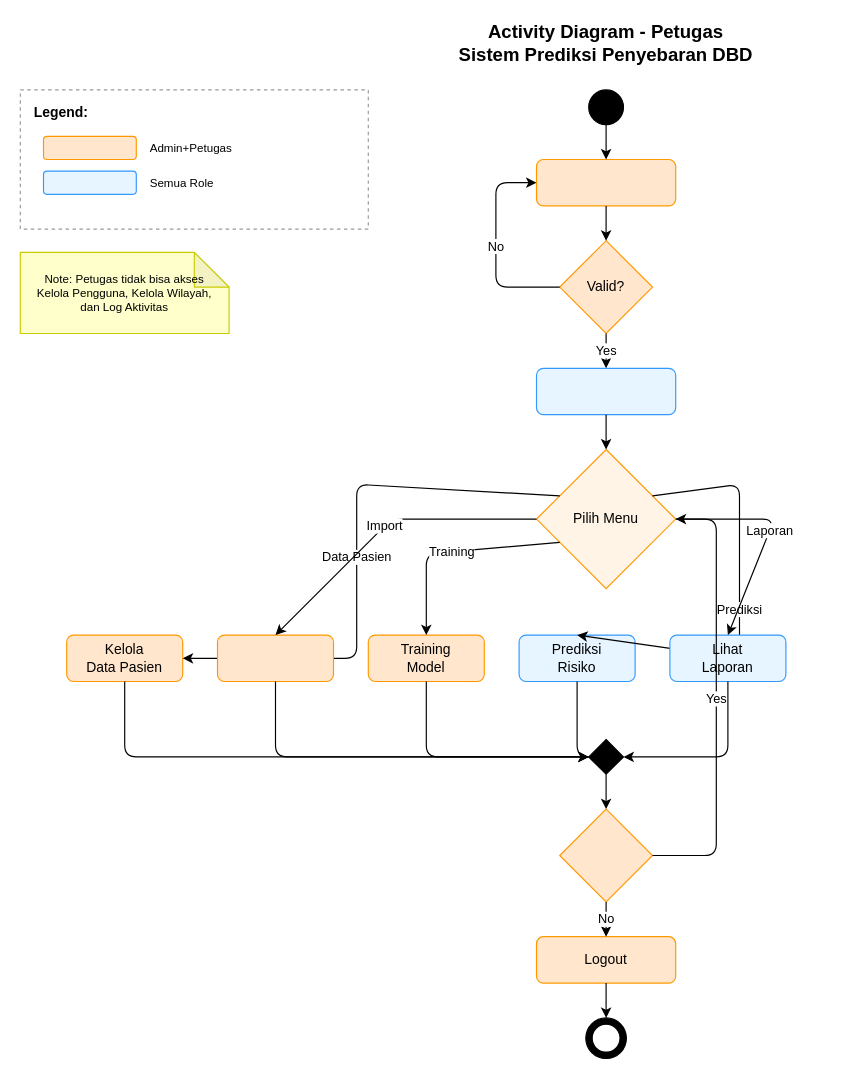
The diagram is 858 pixels wide and 1079 high, and some of its shapes have lost their labels. Here are the shapes that lost their labels. From the top down, the box of each, then its label:
(535, 158, 676, 206): Login
(535, 367, 676, 415): Akses Dashboard
(216, 634, 334, 682): Import Data Excel
(559, 808, 652, 902): Lanjut?
